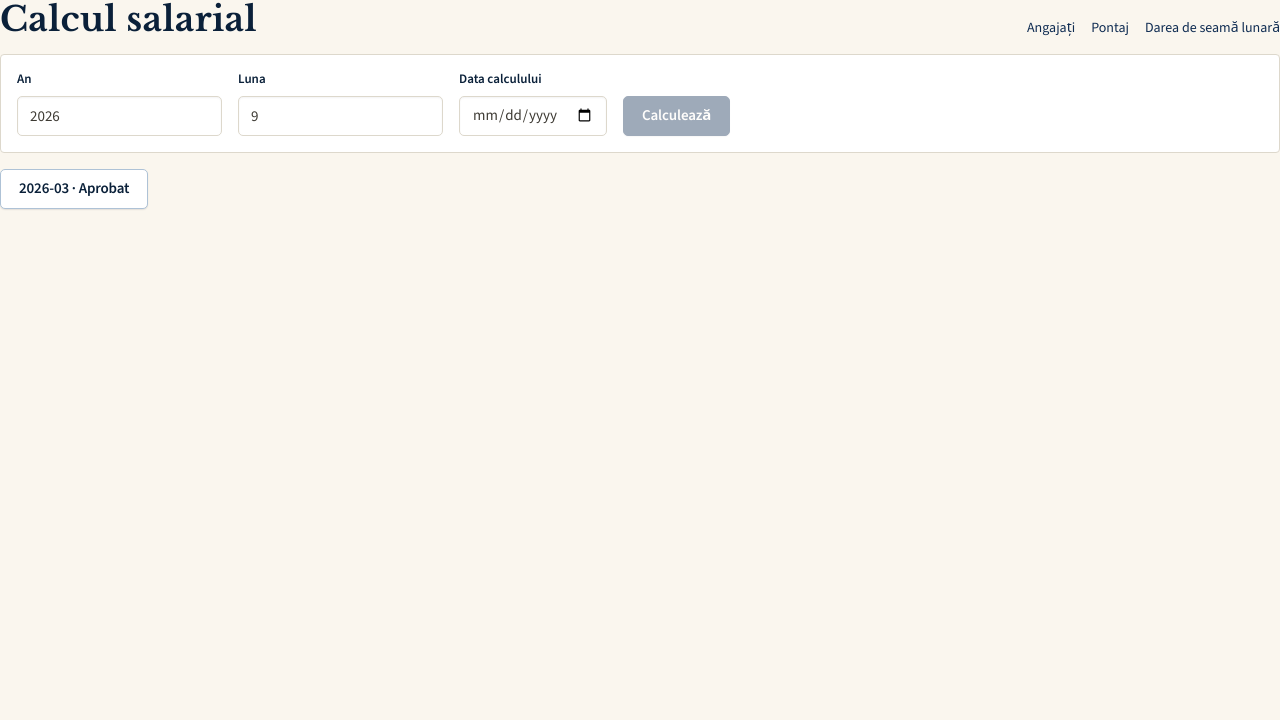
Test case: ecranele › o lună contabilizată oferă plata salariilor, lista de plată și liniile plății
The width and height of the screenshot is (1280, 720).
Click the button "2026-03 · Aprobat": [74, 189] box [0,169,148,209]
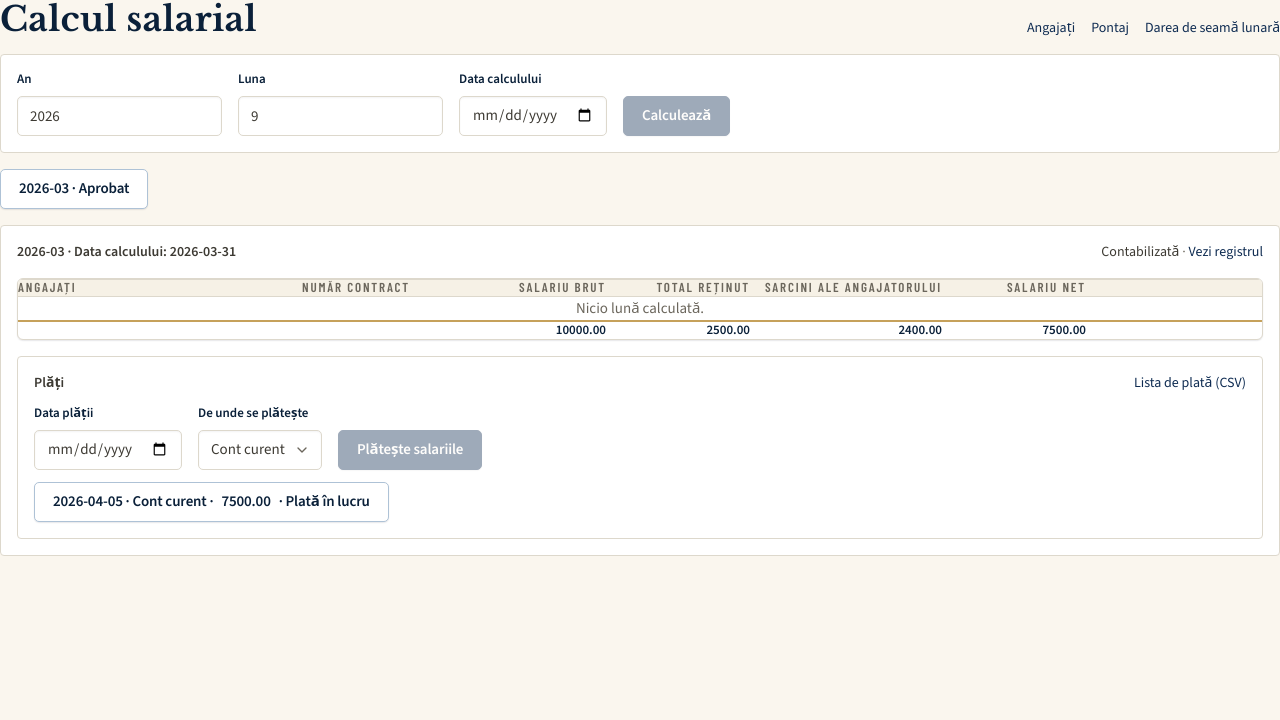
Now the button "Plătește salariile" is shown, box [338,430,482,470]
Click the button "2026-04-05 · Cont curent · 7500.00 · Plată în lucru": [211, 502] box [34,482,389,522]
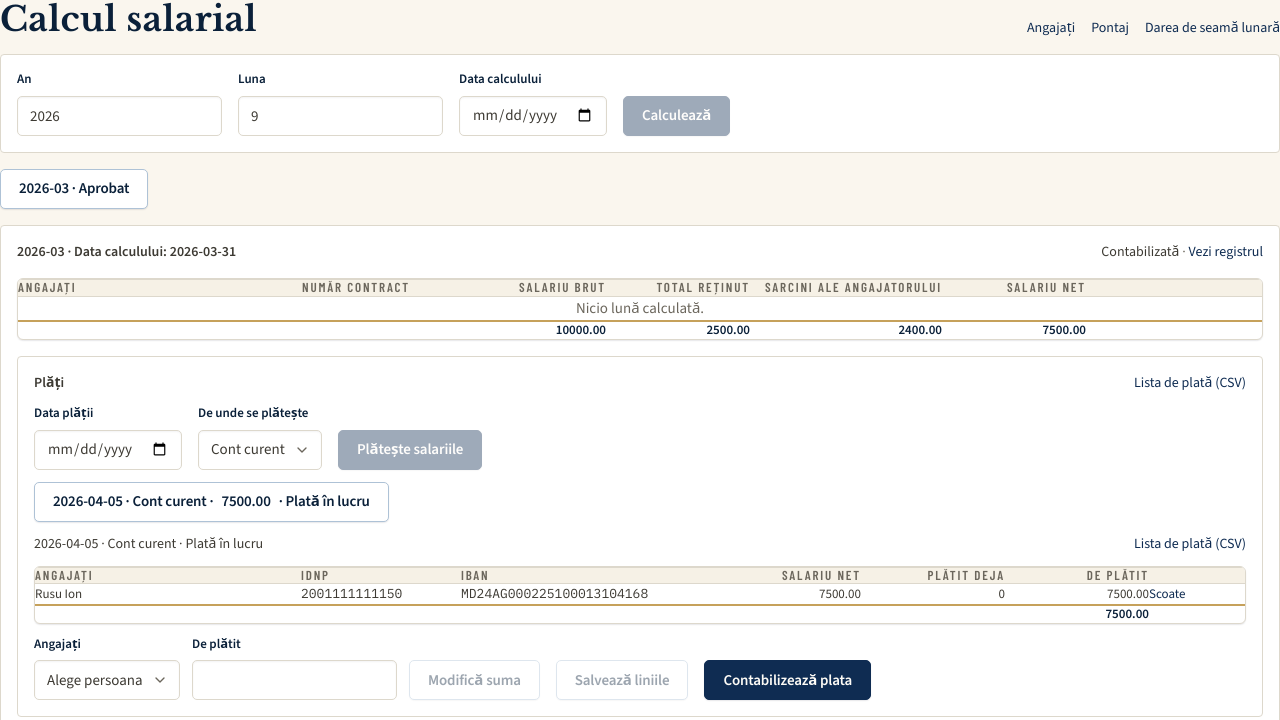
Now the text "Rusu Ion" is shown, box [35,584,301,605]
Now the text "MD24AG000225100013104168" is shown, box [461,585,648,602]
Now the button "Contabilizează plata" is enabled, box [704,660,871,700]
